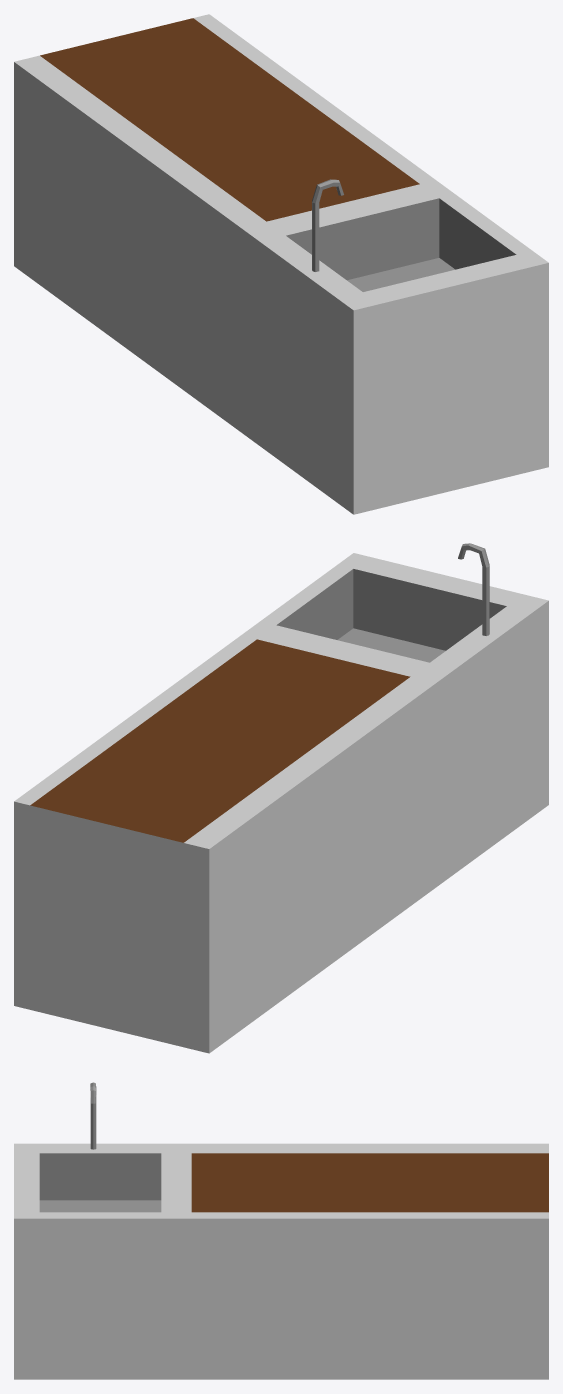
File: kichen.fbx
3 views of the same model, one above another, from view 1: azimuth 30°, elevation 25°; view 2: azimuth 150°, elevation 25°; view 3: azimuth 270°, elevation 25° (orthographic). The views are drawn at different scales.
Visible parts, largest first — view 1: 立方体; view 2: 立方体; view 3: 立方体.
Boxes of the visible parts, bbox=[...] form: 立方体: bbox=[14, 14, 548, 514]; 立方体: bbox=[14, 543, 548, 1053]; 立方体: bbox=[14, 1082, 548, 1379].
Bounding box in the file's own units: 77.01 × 110 × 232.
